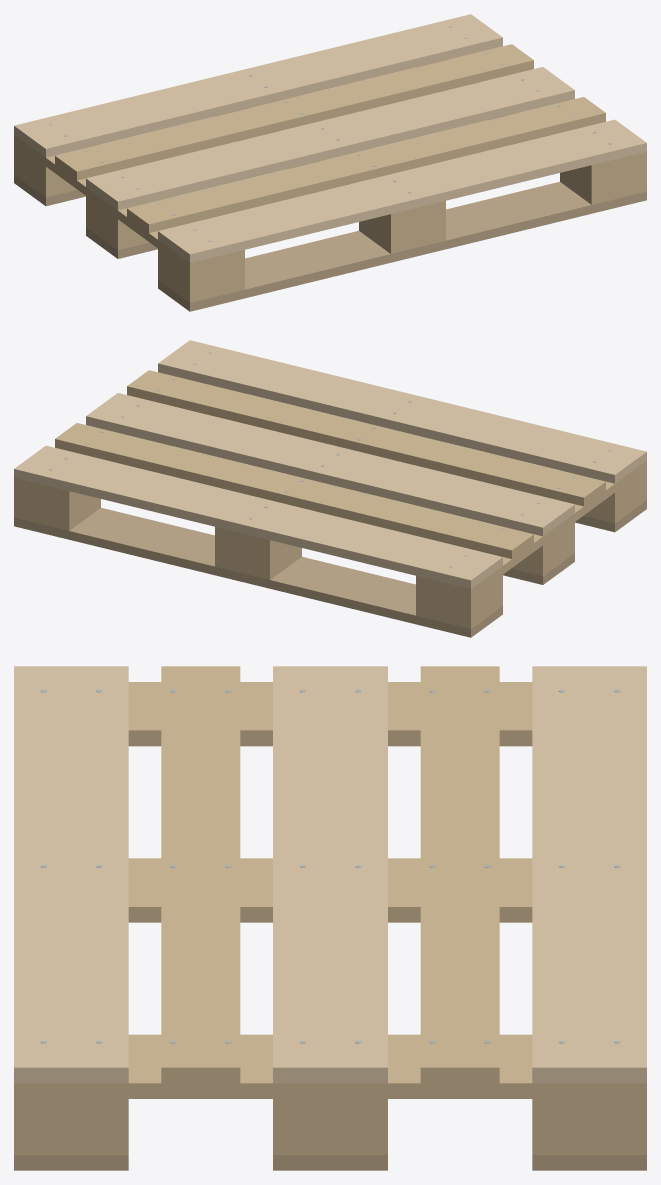
Rendered from pallet.glb.
The picture shows the model from 3 angles, top to bottom: view 1: azimuth 30°, elevation 25°; view 2: azimuth 150°, elevation 25°; view 3: azimuth 270°, elevation 25°; orthographic projection. The views are drawn at different scales.
Visible parts, largest first — view 1: EUR-pall; view 2: EUR-pall; view 3: EUR-pall.
Part boxes in pixels (<box>): EUR-pall: <box>14,14,646,311</box>; EUR-pall: <box>14,340,646,637</box>; EUR-pall: <box>14,666,646,1170</box>.
Size of the model in its own units: 1.2 by 0.1445 by 0.8.
